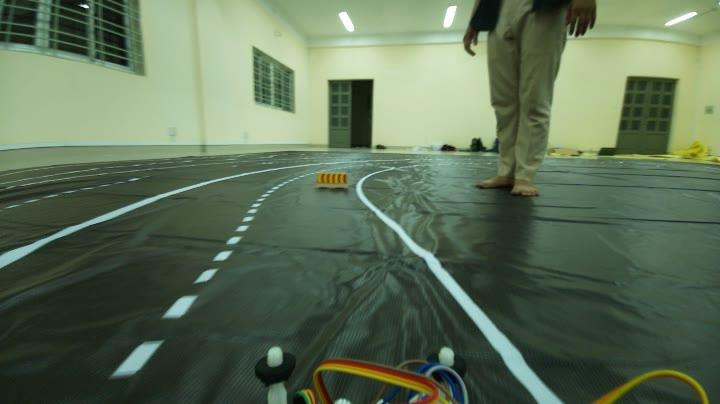roadblock: (310, 164, 352, 193)
